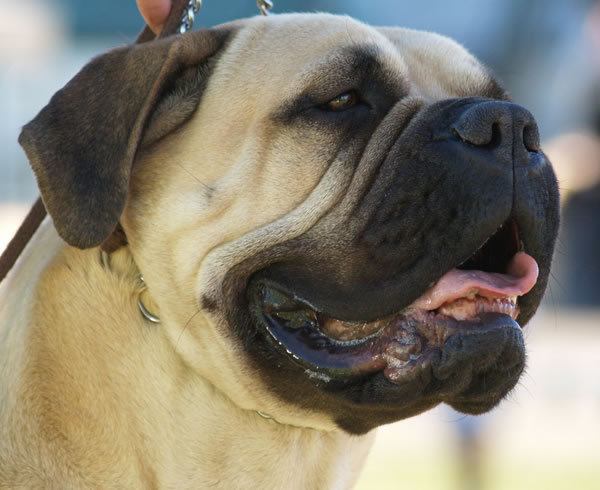mastiff: (0, 11, 561, 490)
